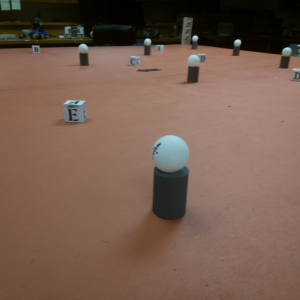blockA: (155, 44, 164, 53)
blockB: (32, 44, 40, 54)
blockC: (130, 54, 140, 66)
blockD: (291, 68, 300, 81), (198, 53, 208, 63)
blockE: (62, 97, 86, 124)
corner: (181, 16, 193, 46)
obstacle: (148, 135, 192, 218), (187, 55, 201, 83), (76, 44, 91, 65), (280, 46, 293, 67), (232, 37, 242, 55), (145, 36, 153, 56), (192, 35, 199, 49)
